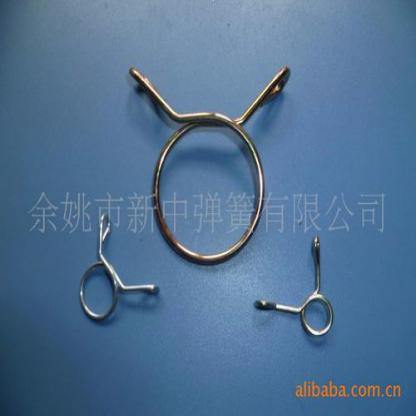FOD: (76, 206, 162, 323), (250, 230, 334, 340)
